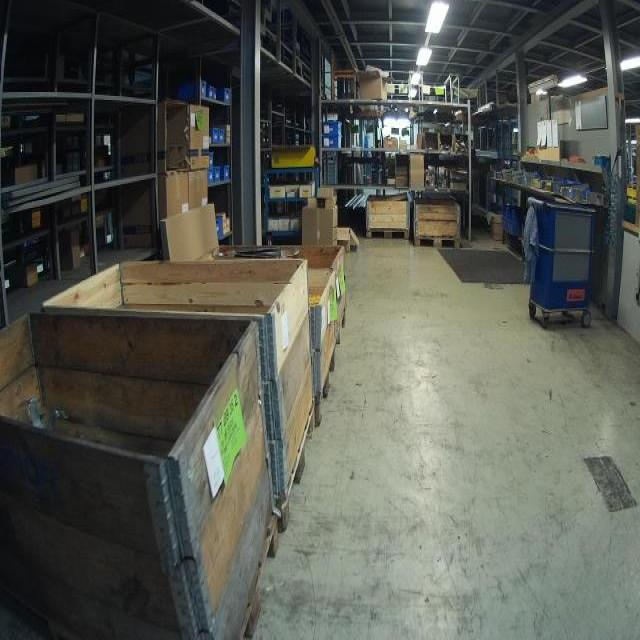pallet: (277, 400, 316, 537), (238, 521, 280, 640), (313, 345, 335, 435), (331, 305, 347, 374), (412, 234, 460, 250), (365, 227, 410, 242)
small_load_carrier: (178, 78, 204, 103), (319, 134, 344, 151), (508, 210, 522, 237), (214, 83, 232, 103), (205, 124, 218, 148), (322, 121, 341, 135), (213, 214, 222, 243), (204, 172, 217, 191), (204, 83, 216, 102), (206, 150, 218, 169), (218, 127, 226, 150), (224, 164, 232, 187), (215, 167, 224, 181), (502, 207, 506, 236)
